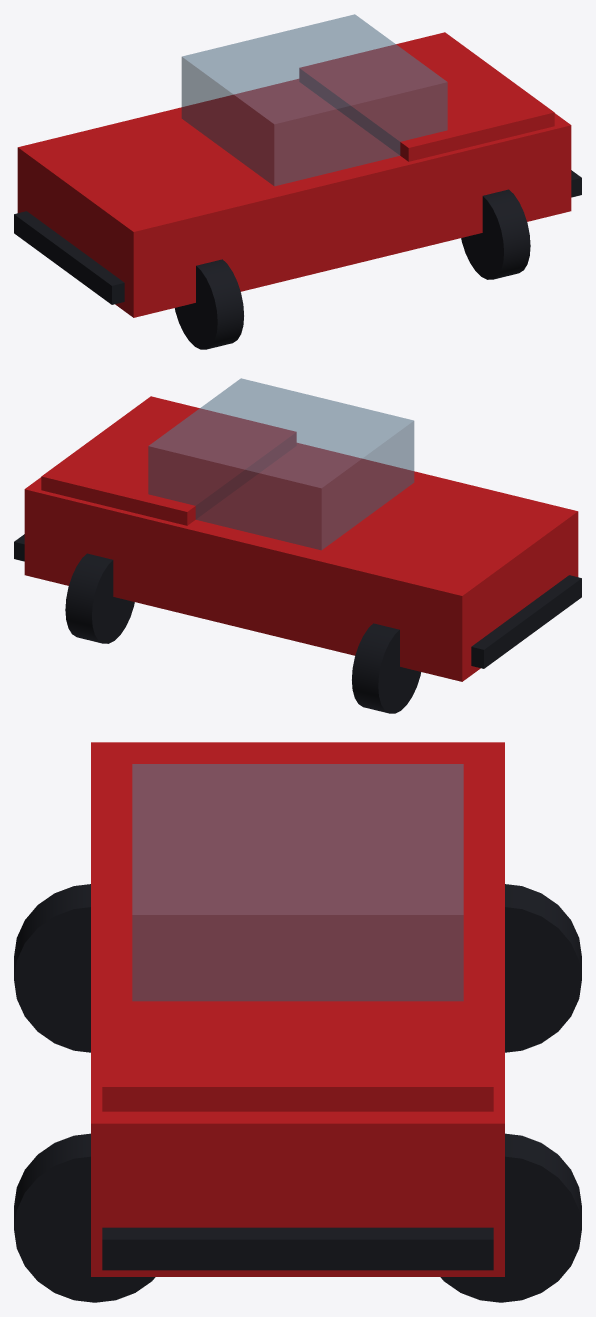
File: drift-car.gltf
3 renders of one model, top to bottom at view 1: azimuth 30°, elevation 25°; view 2: azimuth 150°, elevation 25°; view 3: azimuth 270°, elevation 25°, orthographic. The views are drawn at different scales.
Parts seen in each view (by area): view 1: Body, Cabin, Hood, WheelFL, WheelRL, Diffuser; view 2: Body, Cabin, Hood, WheelFR, WheelRR, Diffuser; view 3: Body, Cabin, Hood, Splitter, WheelFL, WheelFR, WheelRL, WheelRR.
Boxes of the visible parts, bbox=[...] form: Body: bbox=[17, 79, 571, 317]; Cabin: bbox=[181, 14, 447, 186]; Hood: bbox=[299, 32, 554, 161]; WheelFL: bbox=[461, 189, 530, 279]; WheelRL: bbox=[174, 259, 243, 349]; Diffuser: bbox=[14, 211, 124, 304]; Body: bbox=[24, 443, 578, 681]; Cabin: bbox=[148, 378, 414, 550]; Hood: bbox=[41, 396, 296, 525]; WheelFR: bbox=[65, 553, 134, 643]; WheelRR: bbox=[352, 623, 421, 713]; Diffuser: bbox=[471, 575, 581, 668]; Body: bbox=[91, 742, 504, 1276]; Cabin: bbox=[132, 764, 463, 1001]; Hood: bbox=[102, 960, 493, 1111]; Splitter: bbox=[102, 1227, 493, 1270]; WheelFL: bbox=[14, 1133, 155, 1302]; WheelFR: bbox=[440, 1133, 581, 1302]; WheelRL: bbox=[14, 884, 90, 1052]; WheelRR: bbox=[505, 884, 581, 1052].
Size of the model in its own units: 5.09 by 2.02 by 3.02.
